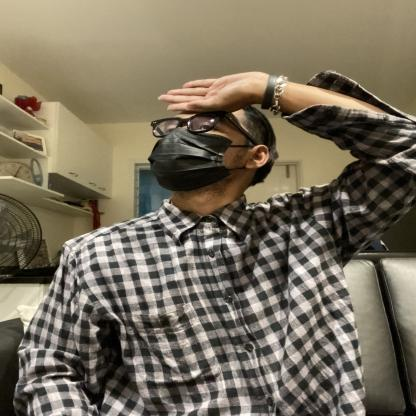Sick: (78, 53, 367, 168)
